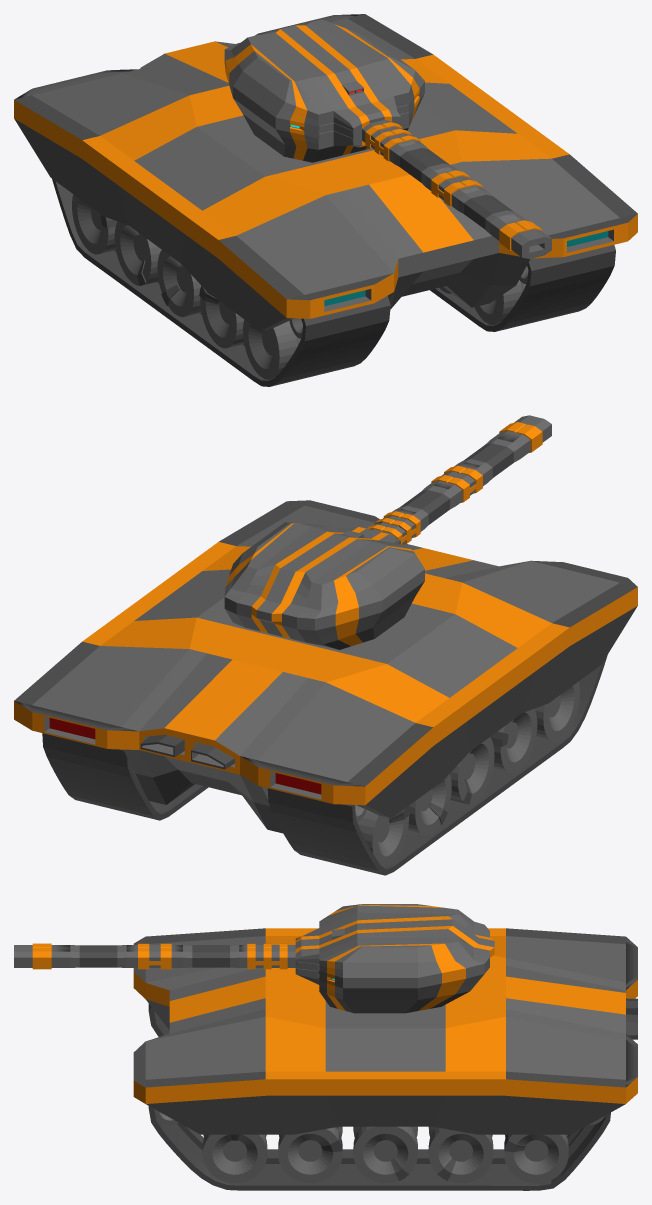
File: TankV3.fbx
3 views of the same model, one above another, from view 1: azimuth 30°, elevation 25°; view 2: azimuth 150°, elevation 25°; view 3: azimuth 270°, elevation 25° (orthographic). The views are drawn at different scales.
Parts seen in each view (by area): view 1: HullV2, Turret, TrackRight, TrackLeft, Wheel1R, Wheel4R, Wheel3R, Wheel5R, Wheel2R, Wheel1L; view 2: HullV2, Turret, TrackRight, TrackLeft, Wheel2R, Wheel3R, Wheel5R, Wheel1R, Wheel4R; view 3: HullV2, Turret, TrackLeft, Wheel3L, Wheel4L, Wheel2L, Wheel1L, Wheel5L.
Boxes of the visible parts, box(x1,y1,x2,y2) form: HullV2: box(14, 14, 637, 331); Turret: box(224, 19, 551, 258); TrackRight: box(52, 179, 390, 386); TrackLeft: box(430, 245, 615, 331); Wheel1R: box(243, 319, 300, 379); Wheel4R: box(114, 221, 161, 285); Wheel3R: box(157, 250, 201, 316); Wheel5R: box(72, 194, 117, 254); Wheel2R: box(199, 286, 244, 348); Wheel1L: box(474, 280, 526, 324); HullV2: box(14, 500, 637, 833); Turret: box(224, 415, 551, 649); TrackRight: box(267, 655, 607, 875); TrackLeft: box(42, 733, 208, 820); Wheel2R: box(490, 708, 537, 772); Wheel3R: box(450, 737, 494, 804); Wheel5R: box(357, 806, 409, 866); Wheel1R: box(535, 681, 579, 741); Wheel4R: box(407, 774, 451, 835); HullV2: box(133, 928, 637, 1134); Turret: box(14, 904, 494, 1013); TrackLeft: box(148, 1106, 610, 1190); Wheel3L: box(353, 1126, 417, 1183); Wheel4L: box(428, 1126, 493, 1183); Wheel2L: box(278, 1126, 342, 1183); Wheel1L: box(202, 1134, 267, 1183); Wheel5L: box(504, 1134, 568, 1183).
Size of the model in its own units: 3320 by 2065 by 5798.
